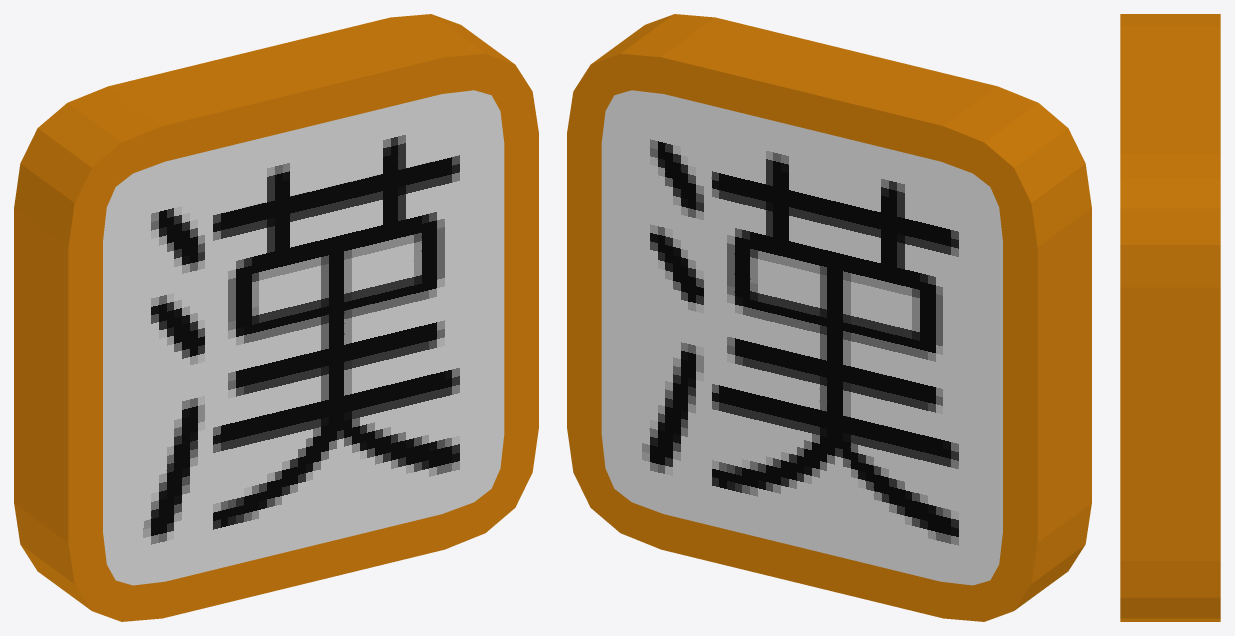
Rendered from ps2_save-icons_simple2000thekanjiquiz.glb.
3 views of the same model, side by side, from view 1: azimuth 30°, elevation 25°; view 2: azimuth 150°, elevation 25°; view 3: azimuth 270°, elevation 25° (orthographic). The views are drawn at different scales.
Parts seen in each view (by area): view 1: icon1.ico; view 2: icon1.ico; view 3: icon1.ico.
Part boxes in pixels (x1,y1,x2,y2): icon1.ico: [14, 14, 538, 621]; icon1.ico: [567, 14, 1091, 621]; icon1.ico: [1120, 14, 1220, 621].
Bounding box in the file's own units: 2.5 × 2.5 × 0.5.
1 material, 1 textured.
